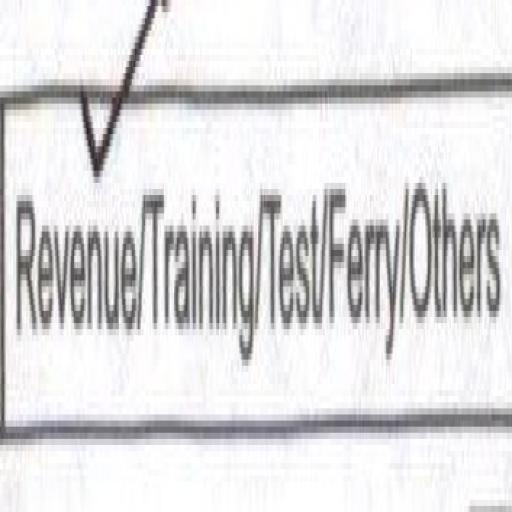check: (4, 0, 138, 439)
